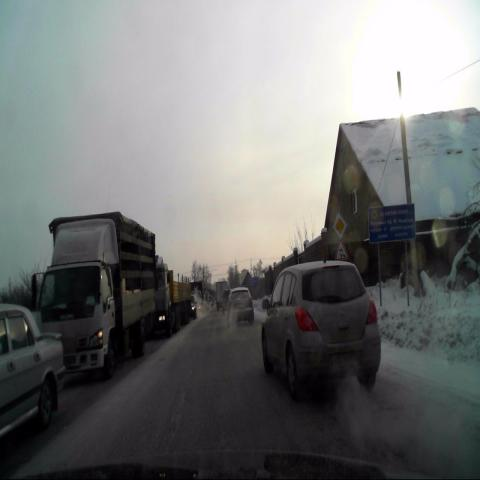1_15: (334, 240, 348, 262)
